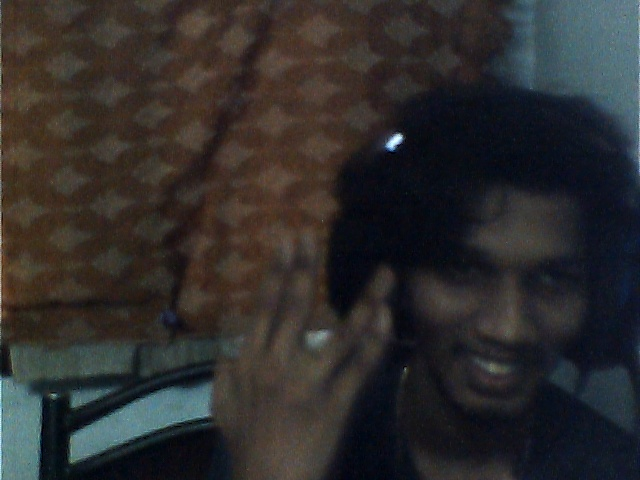LiveLong: (214, 230, 391, 469)
